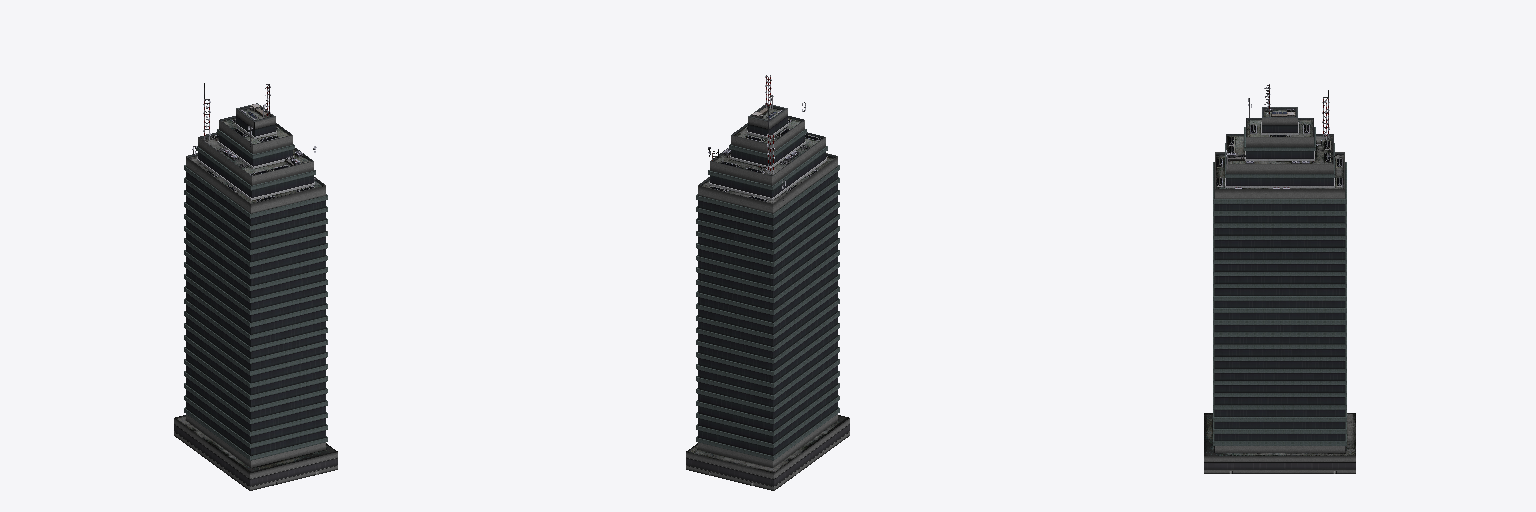
3 views of the same model, side by side, from view 1: azimuth 30°, elevation 25°; view 2: azimuth 150°, elevation 25°; view 3: azimuth 270°, elevation 25° (orthographic).
Visible parts, largest first — view 1: Object003d, Object003f; view 2: Object003d, Object003f; view 3: Object003d, Object003f.
Boxes of the visible parts, x1,y1,x2,y2 form: Object003d: [174, 103, 337, 490]; Object003f: [190, 83, 316, 201]; Object003d: [686, 103, 849, 490]; Object003f: [708, 75, 827, 202]; Object003d: [1204, 107, 1355, 473]; Object003f: [1217, 84, 1342, 188].
Size of the model in its own units: 35.63 by 152 by 53.21.
Materials: 3 (3 with a texture image).